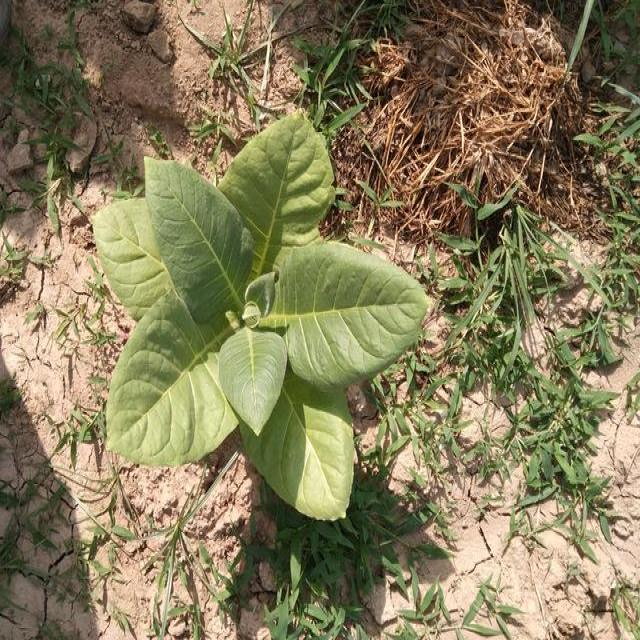crop: (90, 119, 430, 524)
